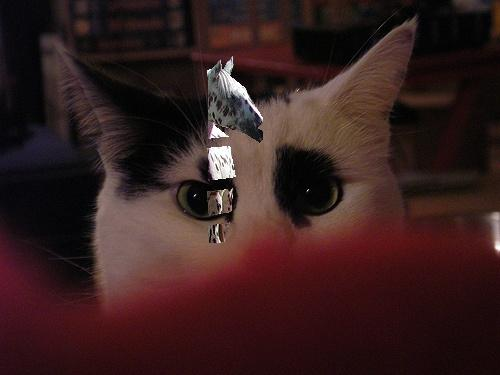tampered: (208, 57, 263, 243)
